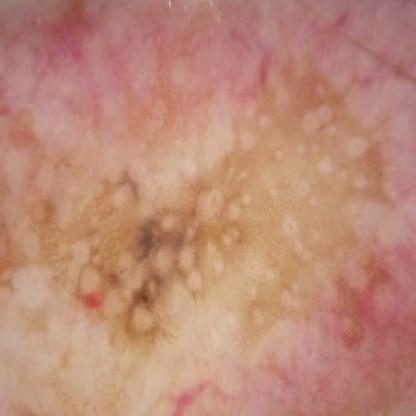malignant: (67, 160, 247, 318)
